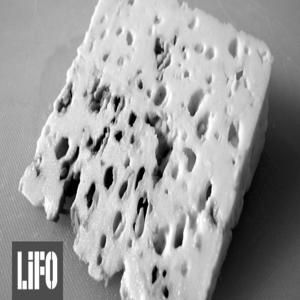cheese: (9, 0, 253, 283)
